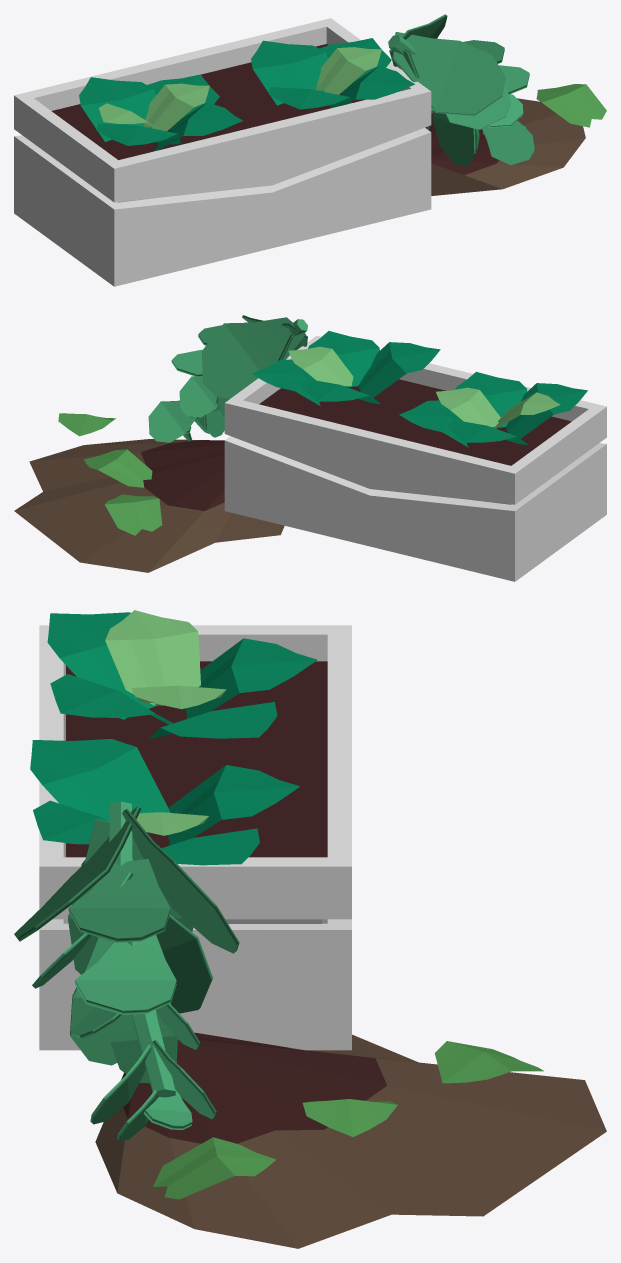
File: Destroyed_plant_farm_004.fbx
The picture shows the model from 3 angles, top to bottom: view 1: azimuth 30°, elevation 25°; view 2: azimuth 150°, elevation 25°; view 3: azimuth 270°, elevation 25°; orthographic projection. The views are drawn at different scales.
Visible parts, largest first — view 1: polySurface1683, polySurface1684, polySurface2413, polySurface2852, polySurface1687, polySurface2375, polySurface1458, polySurface2371, polySurface2851, polySurface1460, polySurface1462, polySurface2373 (+5 smaller); view 2: polySurface1683, polySurface1684, polySurface2852, polySurface2413, polySurface1687, polySurface2370, polySurface2850, polySurface2373, polySurface1457, polySurface2371, polySurface1460, polySurface1462 (+7 smaller); view 3: polySurface2852, polySurface2413, polySurface1684, polySurface1683, polySurface1687, polySurface2370, polySurface1459, polySurface2375, polySurface1458, polySurface1457, polySurface2851, polySurface1461 (+7 smaller).
Part boxes in pixels (x1,y1,x2,y2): polySurface1683: [14, 127, 431, 286]; polySurface1684: [14, 18, 431, 202]; polySurface2413: [388, 14, 534, 166]; polySurface2852: [429, 98, 585, 195]; polySurface1687: [51, 44, 365, 159]; polySurface2375: [251, 40, 327, 105]; polySurface1458: [79, 77, 155, 141]; polySurface2371: [316, 47, 381, 94]; polySurface2851: [536, 84, 606, 127]; polySurface1460: [144, 83, 209, 131]; polySurface1462: [154, 102, 242, 151]; polySurface2373: [330, 66, 414, 108]; polySurface1683: [224, 436, 606, 581]; polySurface1684: [224, 335, 606, 504]; polySurface2852: [14, 439, 284, 572]; polySurface2413: [148, 315, 307, 442]; polySurface1687: [259, 379, 571, 465]; polySurface2370: [358, 342, 440, 397]; polySurface2850: [105, 494, 162, 535]; polySurface2373: [308, 331, 379, 386]; polySurface1457: [506, 383, 587, 438]; polySurface2371: [288, 346, 353, 386]; polySurface1460: [436, 387, 500, 426]; polySurface1462: [455, 371, 527, 427]; polySurface2852: [95, 1032, 606, 1248]; polySurface2413: [14, 801, 239, 1141]; polySurface1684: [39, 625, 351, 919]; polySurface1683: [39, 714, 351, 1050]; polySurface1687: [66, 661, 327, 857]; polySurface2370: [30, 739, 170, 821]; polySurface1459: [105, 610, 200, 705]; polySurface2375: [168, 765, 299, 845]; polySurface1458: [185, 638, 317, 718]; polySurface1457: [47, 612, 157, 719]; polySurface2851: [153, 1137, 276, 1199]; polySurface1461: [147, 702, 277, 740].
Bounding box in the file's own units: 4.19 × 1.26 × 2.52.
